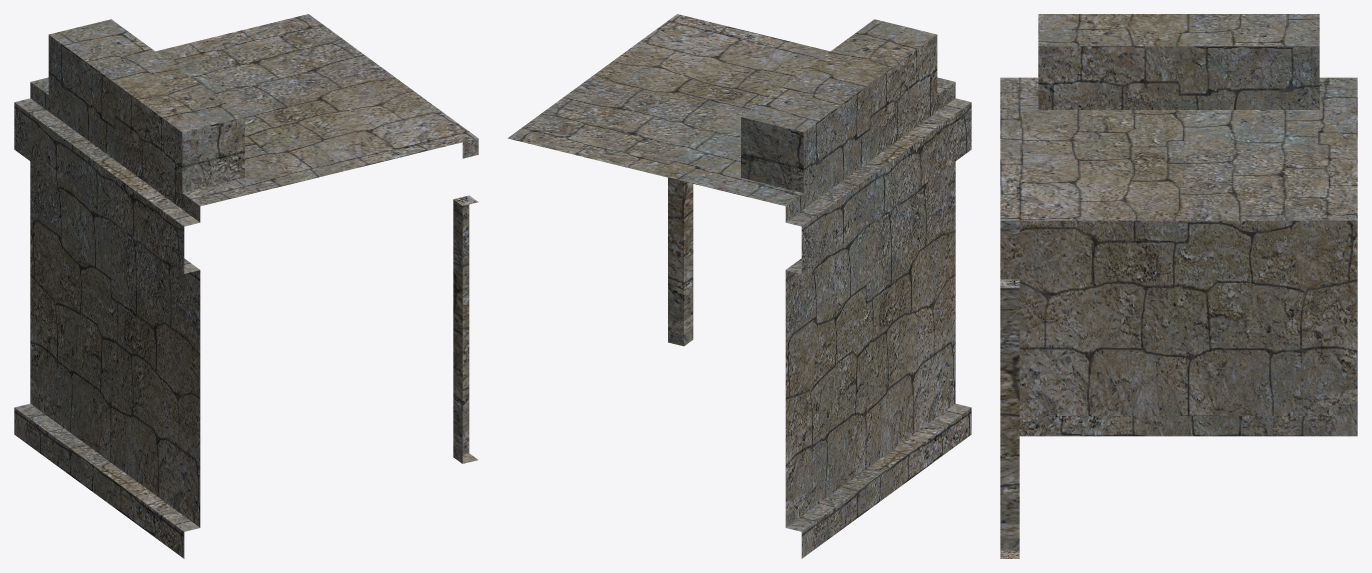
The model's file is Section10.FBX.
3 views of the same model, side by side, from view 1: azimuth 30°, elevation 25°; view 2: azimuth 150°, elevation 25°; view 3: azimuth 270°, elevation 25° (orthographic). The views are drawn at different scales.
Visible parts, largest first — view 1: ClaimedCo101W-SE001; view 2: ClaimedCo101W-SE001; view 3: ClaimedCo101W-SE001.
Boxes of the visible parts, x1,y1,x2,y2 form: ClaimedCo101W-SE001: (14,14,478,558); ClaimedCo101W-SE001: (507,14,971,558); ClaimedCo101W-SE001: (1000,14,1357,558).
Size of the model in its own units: 100 by 133 by 100.
